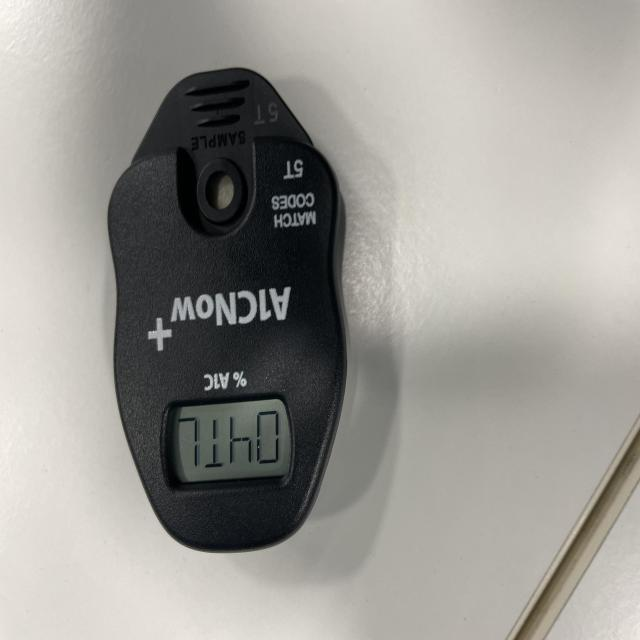hba1c: (106, 68, 348, 556)
